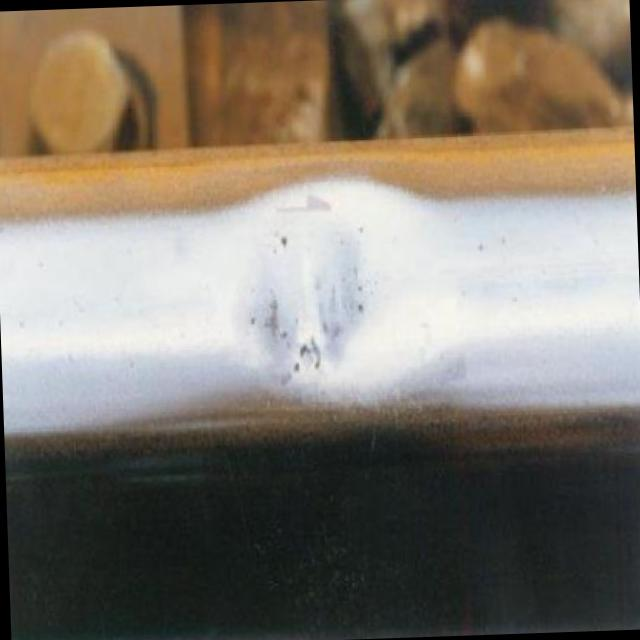defective: (175, 130, 501, 454)
